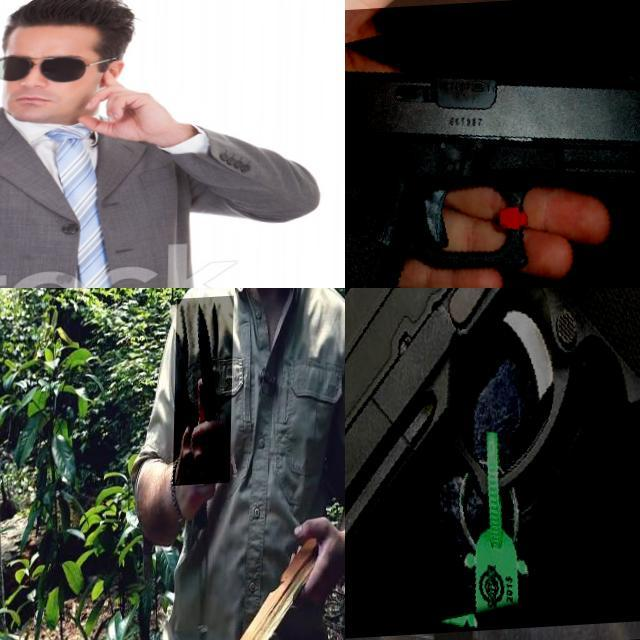-: (175, 299, 235, 489)
gun-knife-thesis - v11 Yolov5 augmented: (345, 288, 640, 640), (345, 0, 640, 288)
